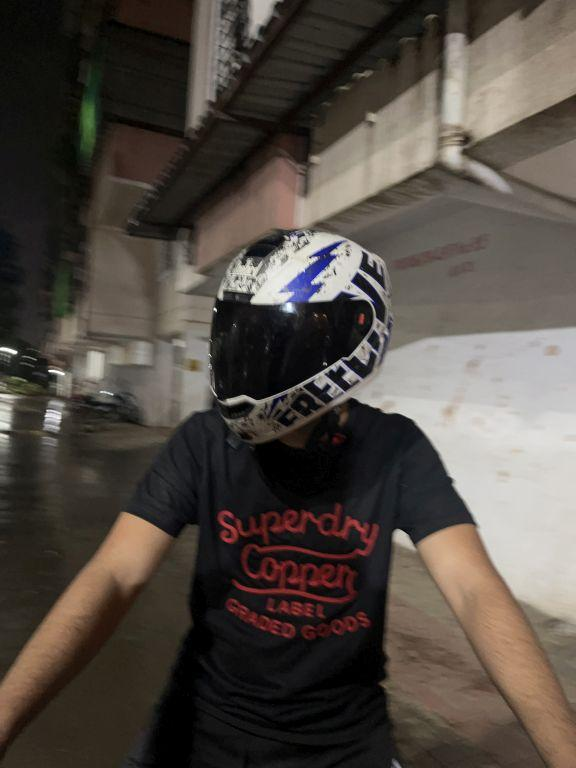helmet: (204, 215, 402, 454)
